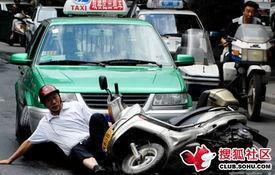Fall-Detected: (0, 78, 106, 174)
